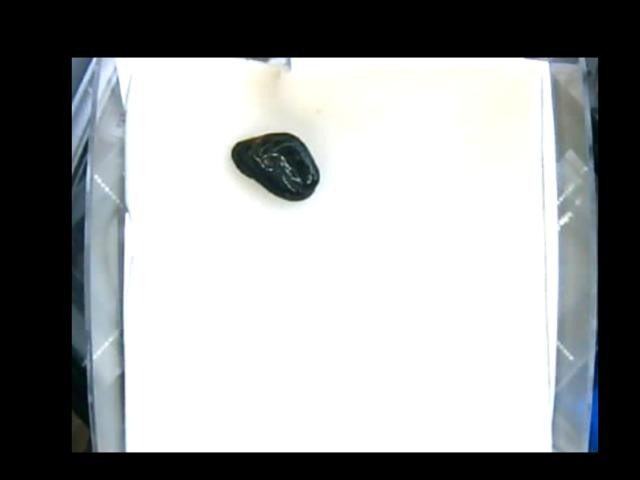Pebble: (230, 132, 321, 199)
